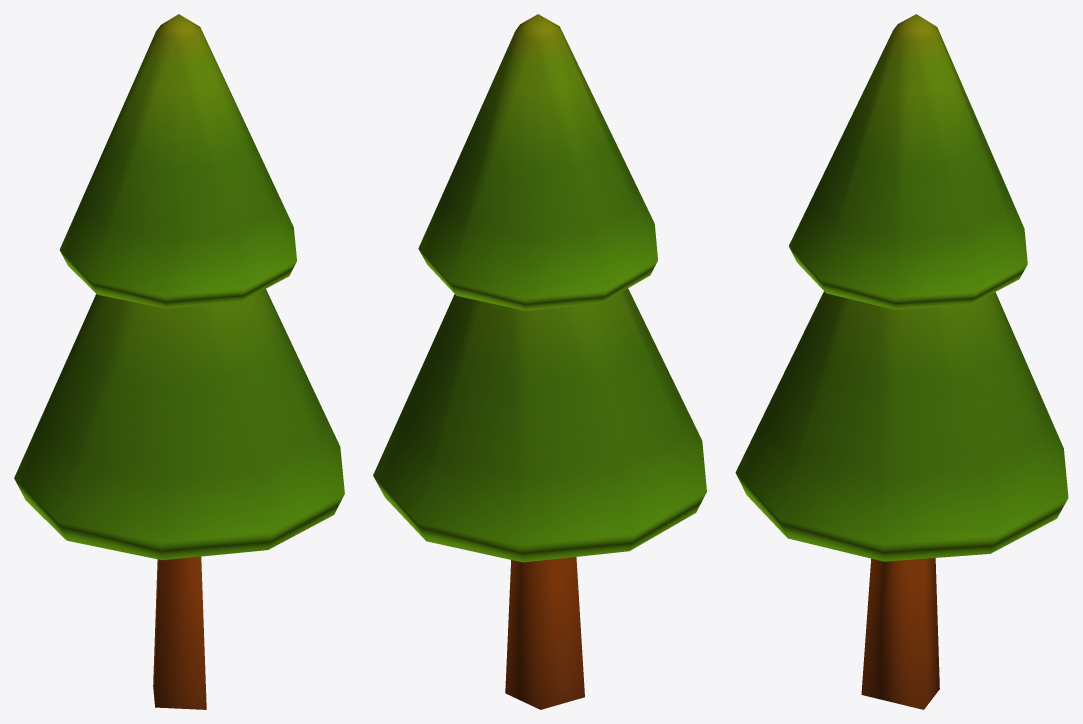
File: block_forest_1_3.fbx
The picture shows the model from 3 angles, left to right: view 1: azimuth 30°, elevation 25°; view 2: azimuth 150°, elevation 25°; view 3: azimuth 270°, elevation 25°; orthographic projection.
Visible parts, largest first — view 1: block_forest_1_3; view 2: block_forest_1_3; view 3: block_forest_1_3.
Boxes of the visible parts, x1=… form: block_forest_1_3: x1=14, y1=14, x2=344, y2=709; block_forest_1_3: x1=373, y1=14, x2=706, y2=709; block_forest_1_3: x1=735, y1=14, x2=1068, y2=709.
Bounding box in the file's own units: 53.33 × 119 × 52.87.
